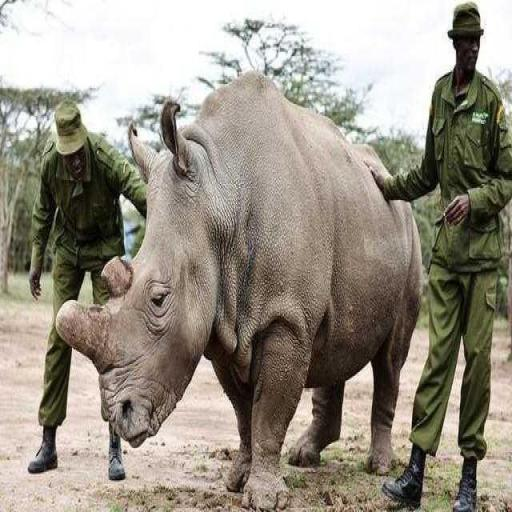Rhino: (55, 69, 423, 507)
